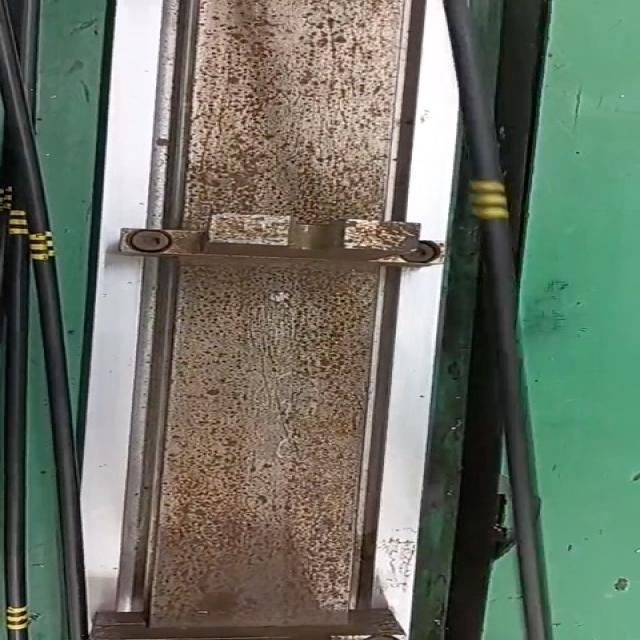yellow: (470, 181, 506, 216), (8, 209, 27, 234), (6, 607, 26, 630), (30, 233, 48, 258), (1, 187, 12, 207)
